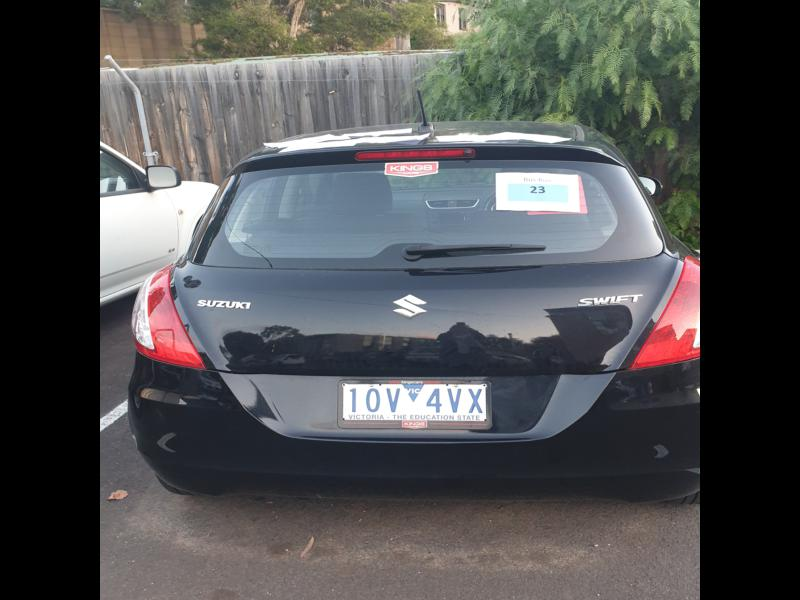BusRun: (507, 182, 568, 203)
PlateNo: (341, 378, 491, 422)
